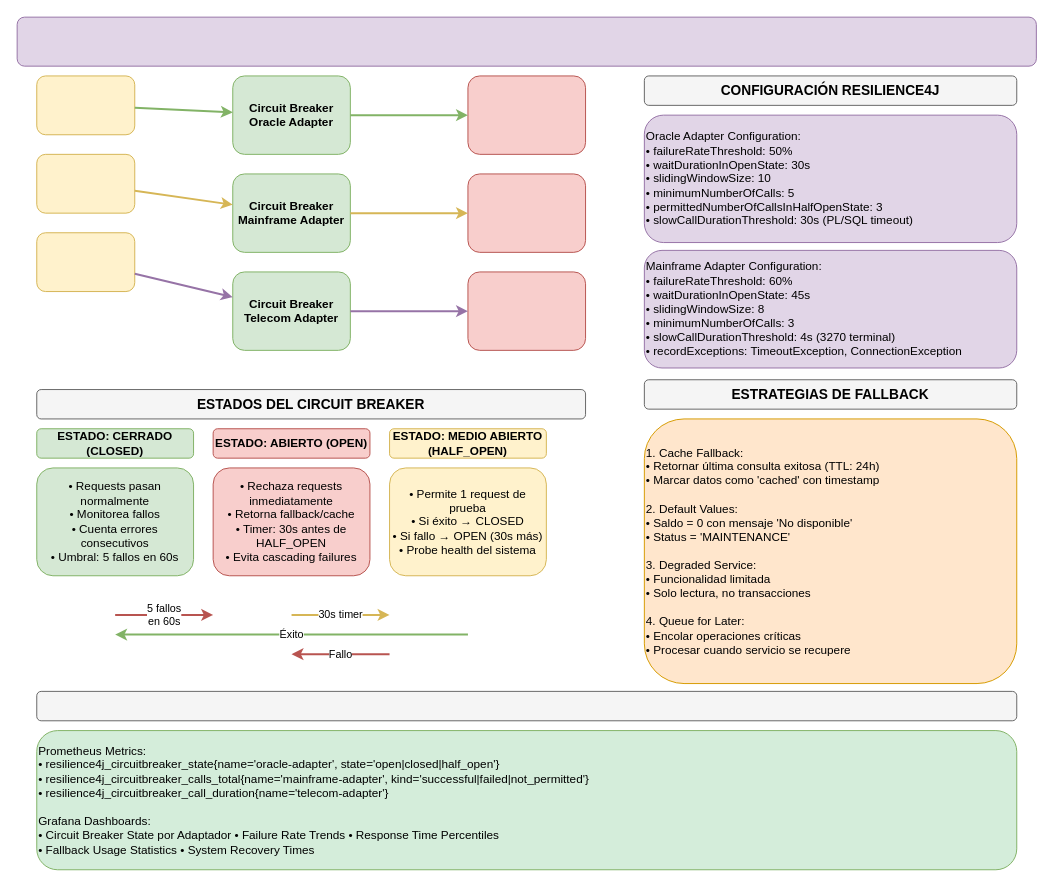
This 1054x887 diagram has some shape labels left out. The centre of each missing label's shape, as x and y in pixels:
"CIRCUIT BREAKER PATTERN - ADAPTADORES SISTEMAS LEGADOS" belongs at (526,41).
"Mainframe IBM Z (Energía) • Terminal 3270 • COBOL Legacy" belongs at (526,212).
"MONITOREO Y MÉTRICAS" belongs at (526,705).
"MS-Clientes" belongs at (85,105).
"MS-Facturación" belongs at (85,183).
"MS-Pagos" belongs at (85,262).
"Oracle Solaris (Acueducto) • Latencia: 30s • PL/SQL Legacy" belongs at (526,114).
"Sistemas Modernos (Telecomunicaciones) • REST/SOAP APIs • Respuesta rápida" belongs at (526,310).
